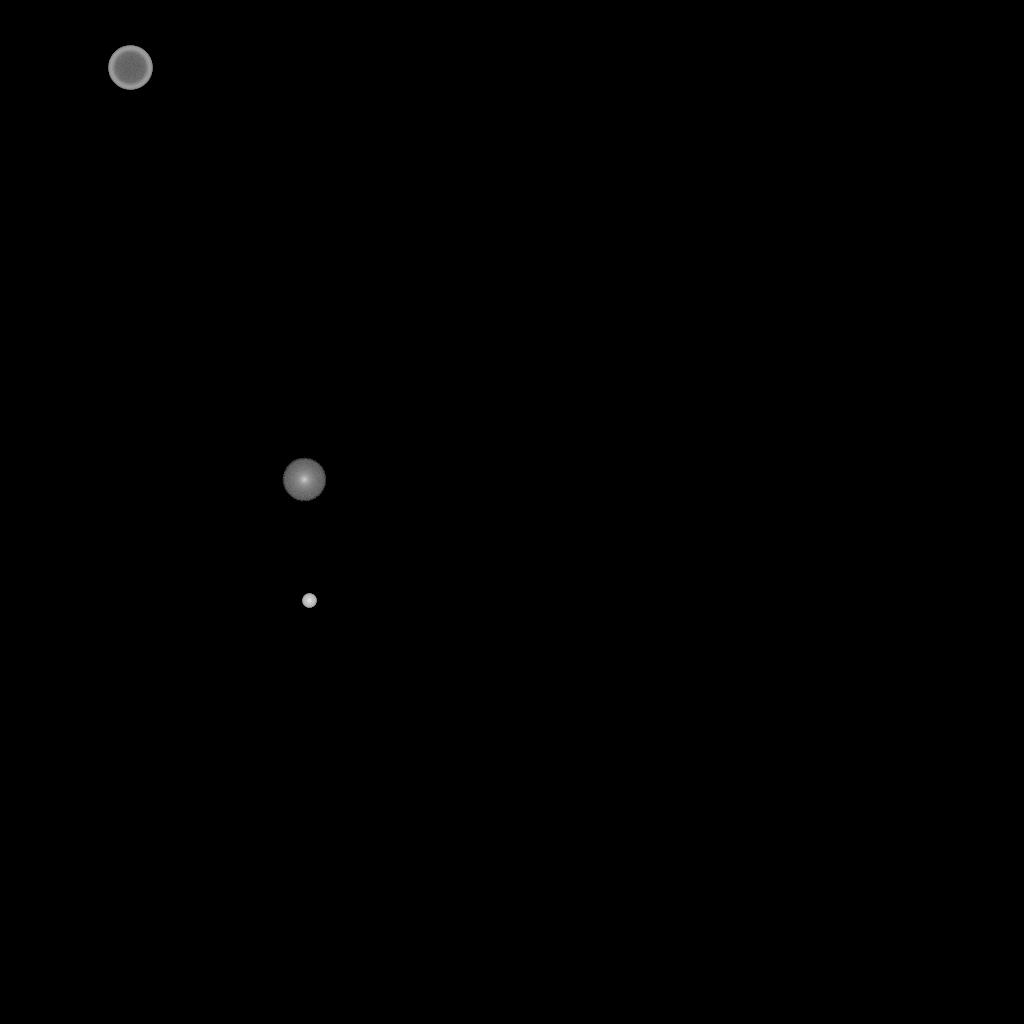depth:-30: (302, 594, 316, 608)
depth:-70: (108, 46, 152, 90)
depth:10: (282, 458, 326, 502)
